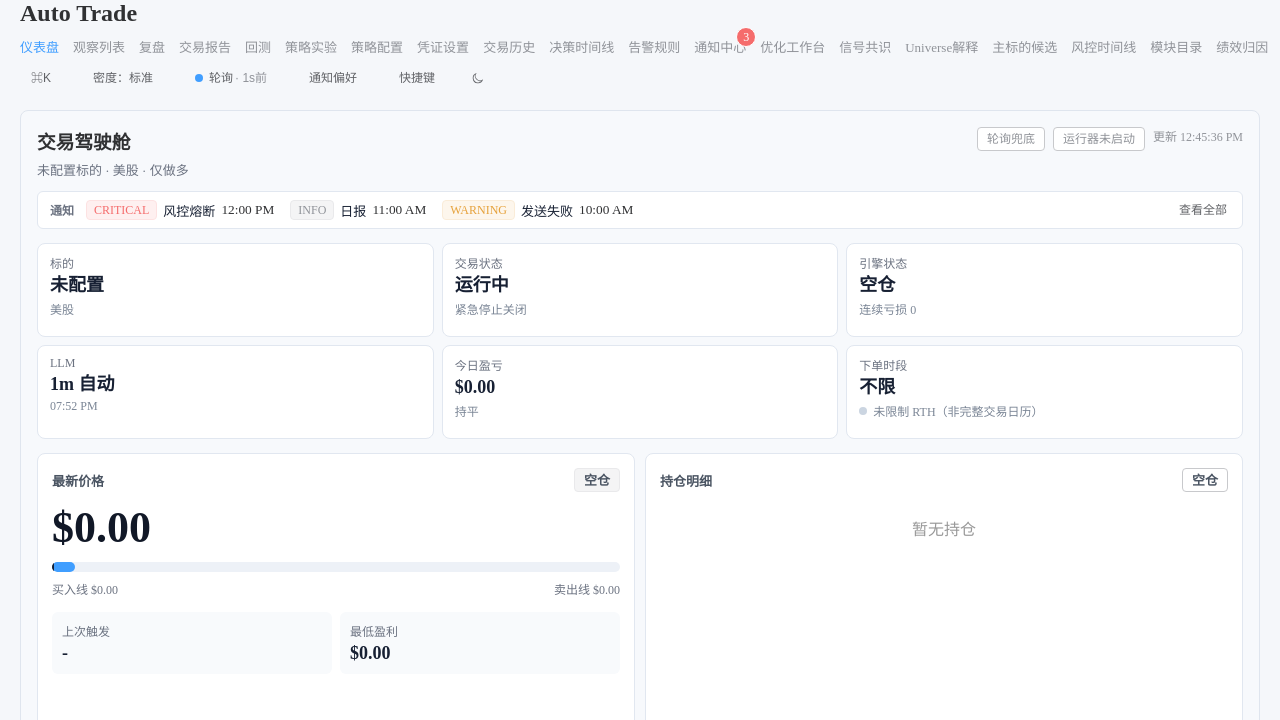
Test case: Command palette › runs a navigation command and closes
This screenshot has width=1280, height=720.
Check: the link "仪表盘" is shown, box [20, 37, 59, 56]
Click the button with test id "nav-command-palette" at [41, 78], box [20, 66, 62, 90]
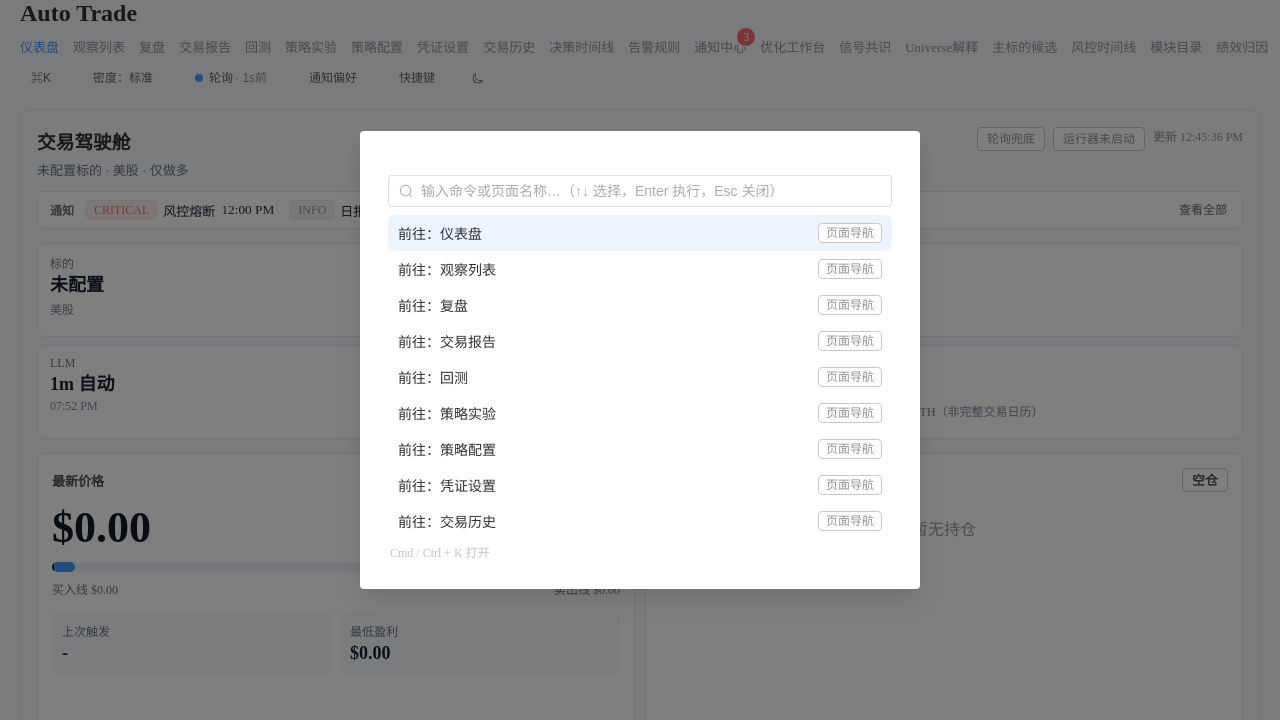
Type "告警" into the field with test id "command-palette-input" at [651, 191], box [421, 176, 881, 206]
Then press Enter
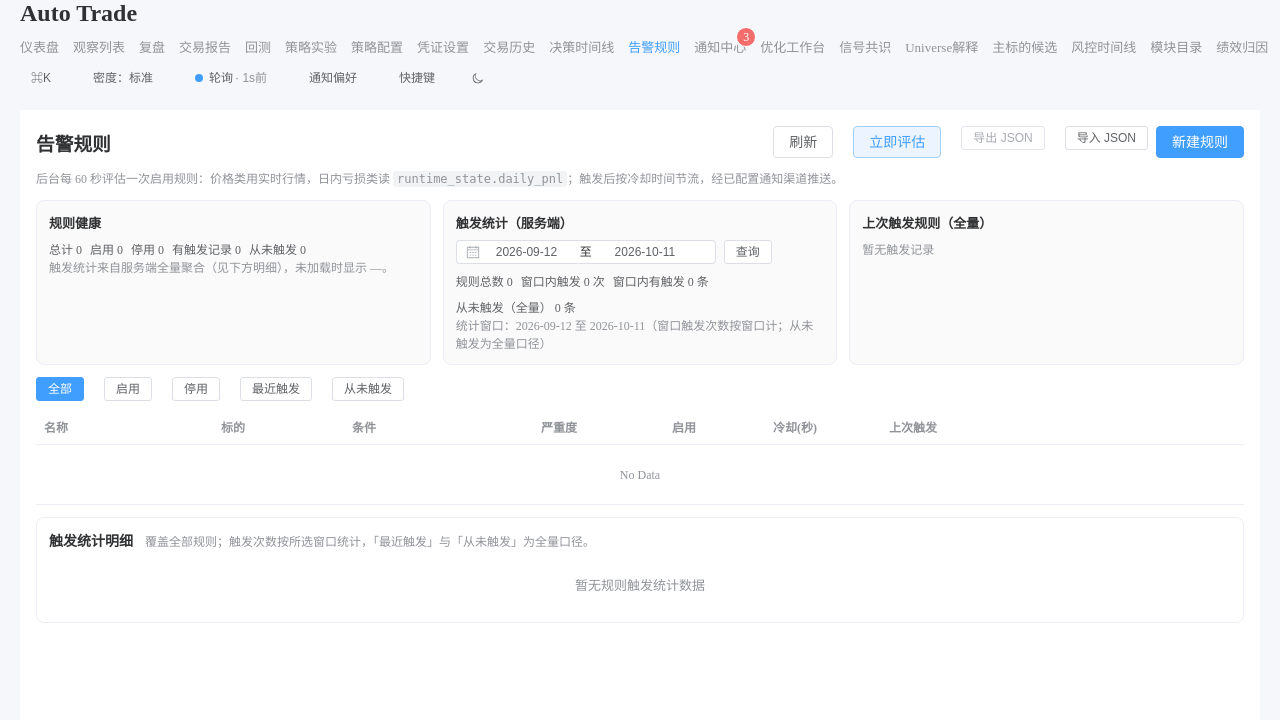
Check: the link "告警规则" is shown, box [628, 37, 680, 56]
Check: the element with test id "command-palette" is gone
